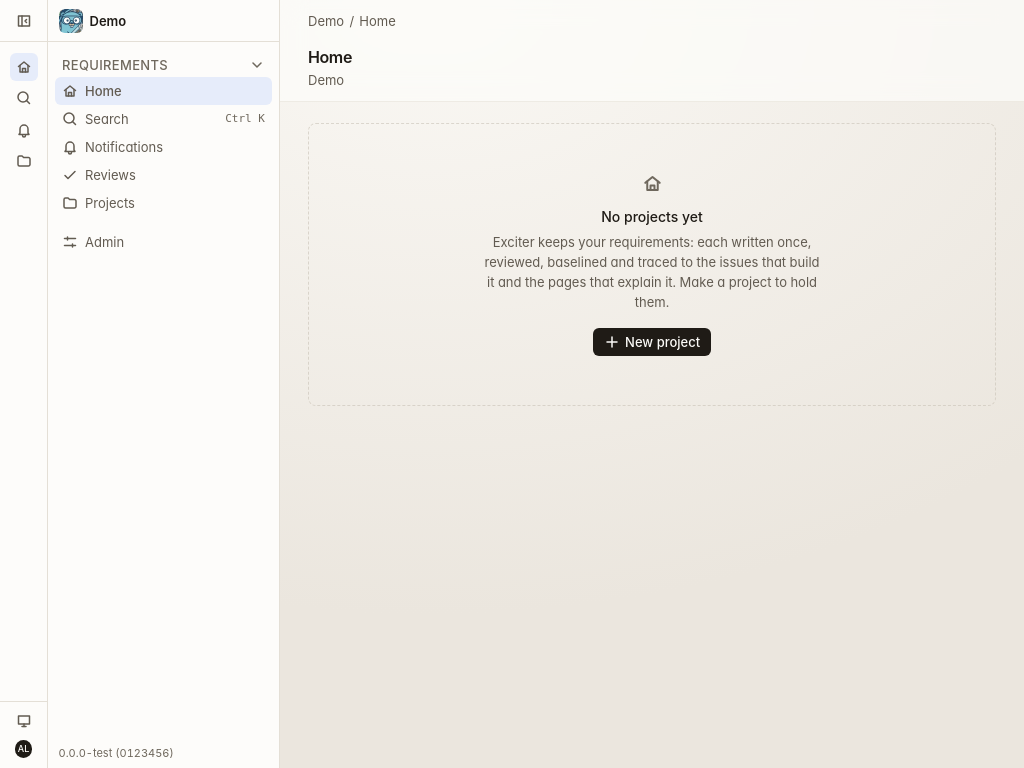
Test case: the rail's theme button › steps through Auto, Light and Dark, stamping the page and remembering the choice
Click the button named "Auto" at (24, 721), box x1=11 y1=708 x2=36 y2=733
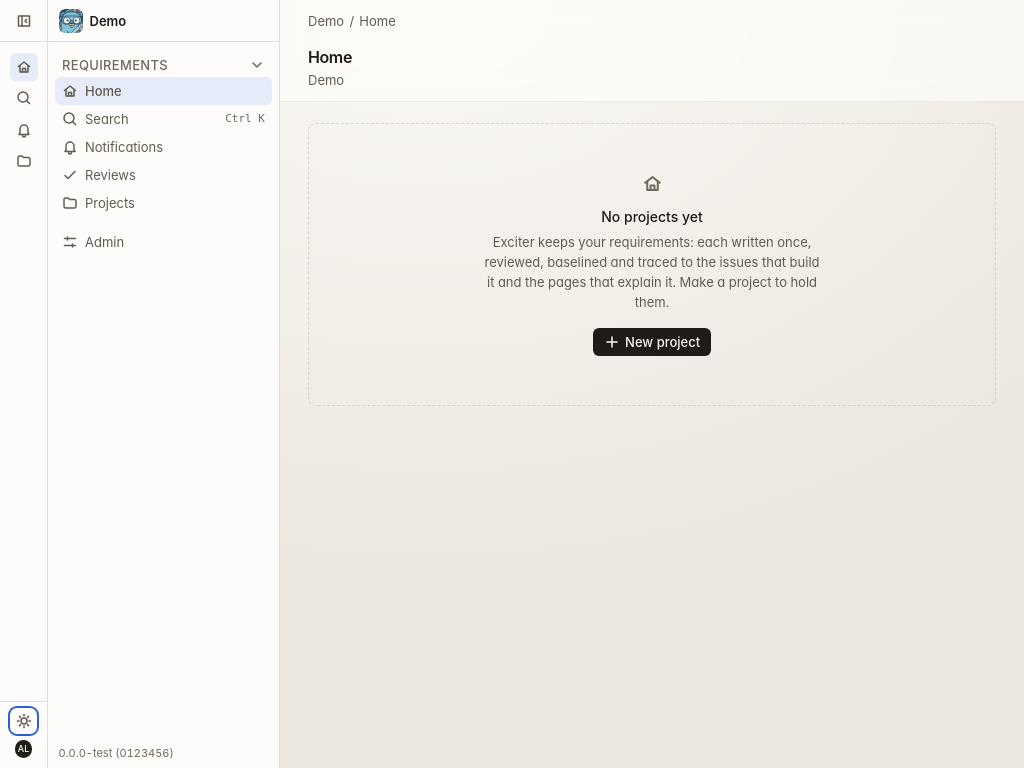
Click the button named "Light" at (24, 721), box x1=11 y1=708 x2=36 y2=733
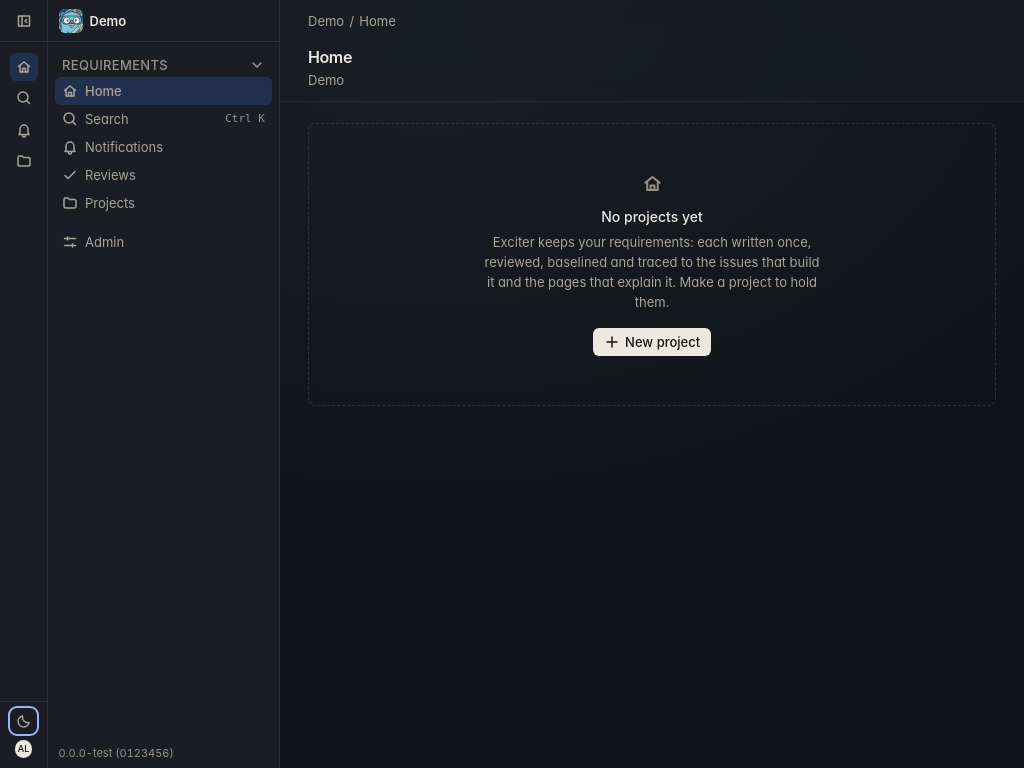
Click the button named "Dark" at (24, 721), box x1=11 y1=708 x2=36 y2=733
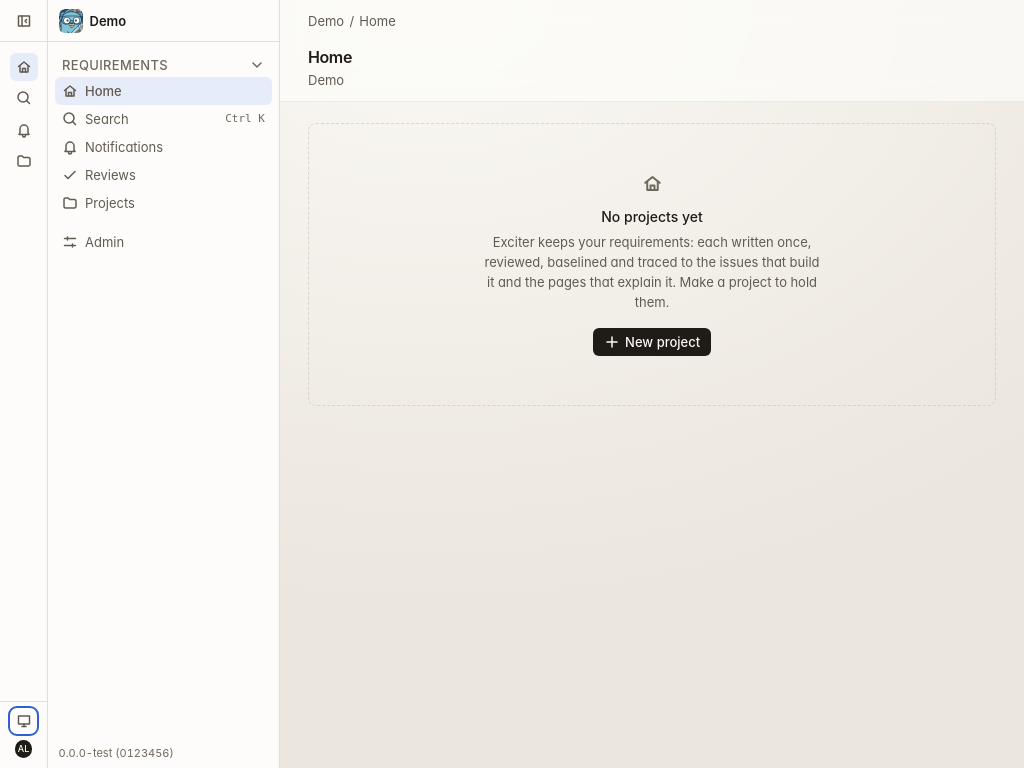
Now the button named "Auto" is shown, box x1=11 y1=708 x2=36 y2=733
